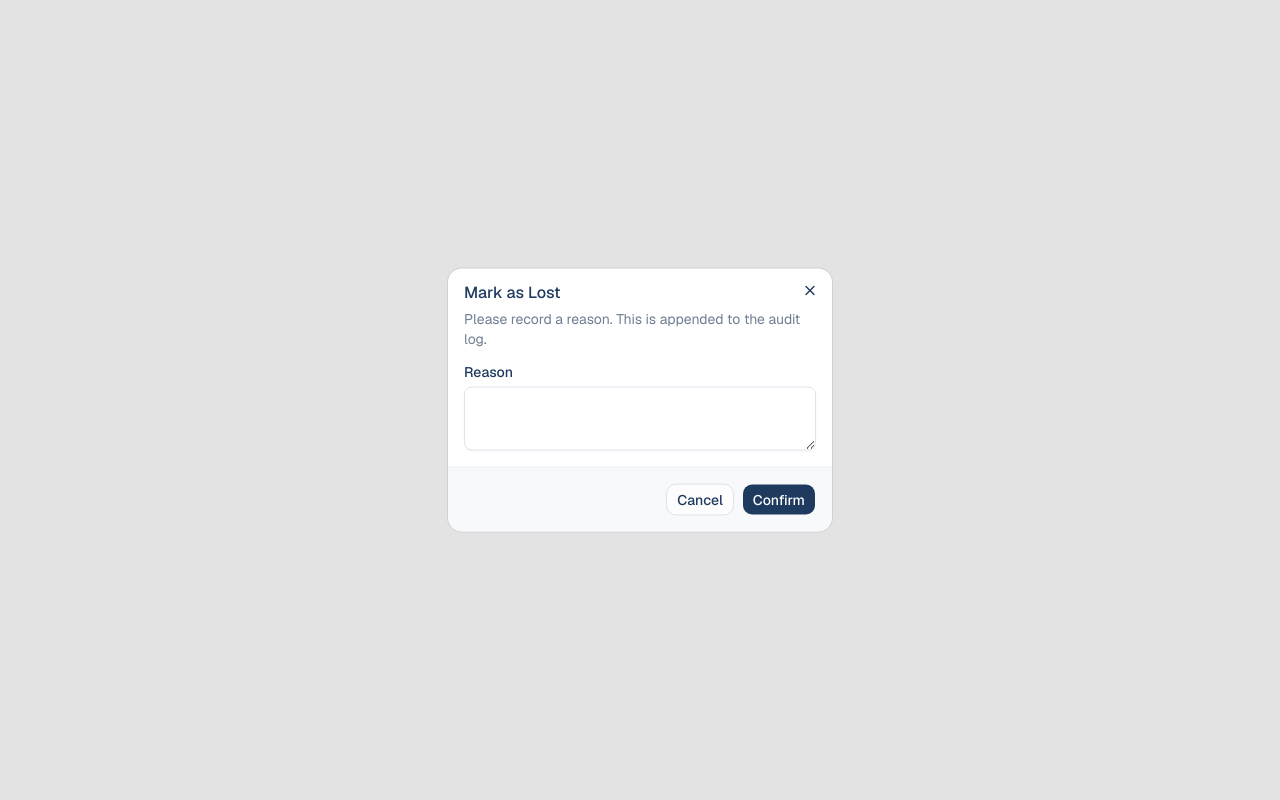
it: TransitionReasonDialog › renders the action error and keeps dialog open on failure
Type "bad data" into the text box with test id "reason-textarea" at (640, 418), box left=464, top=386, right=816, bottom=450
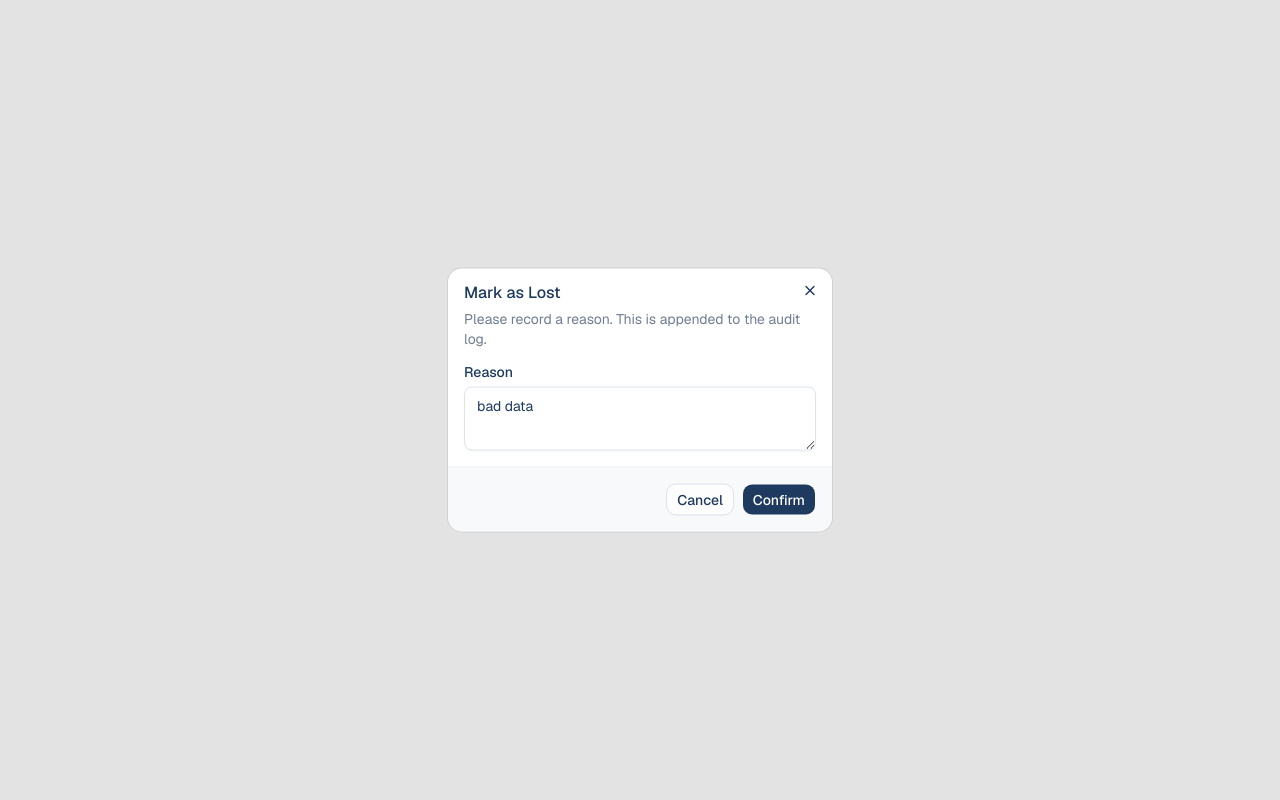
Click the button with test id "reason-submit" at (779, 500), box left=742, top=484, right=816, bottom=516
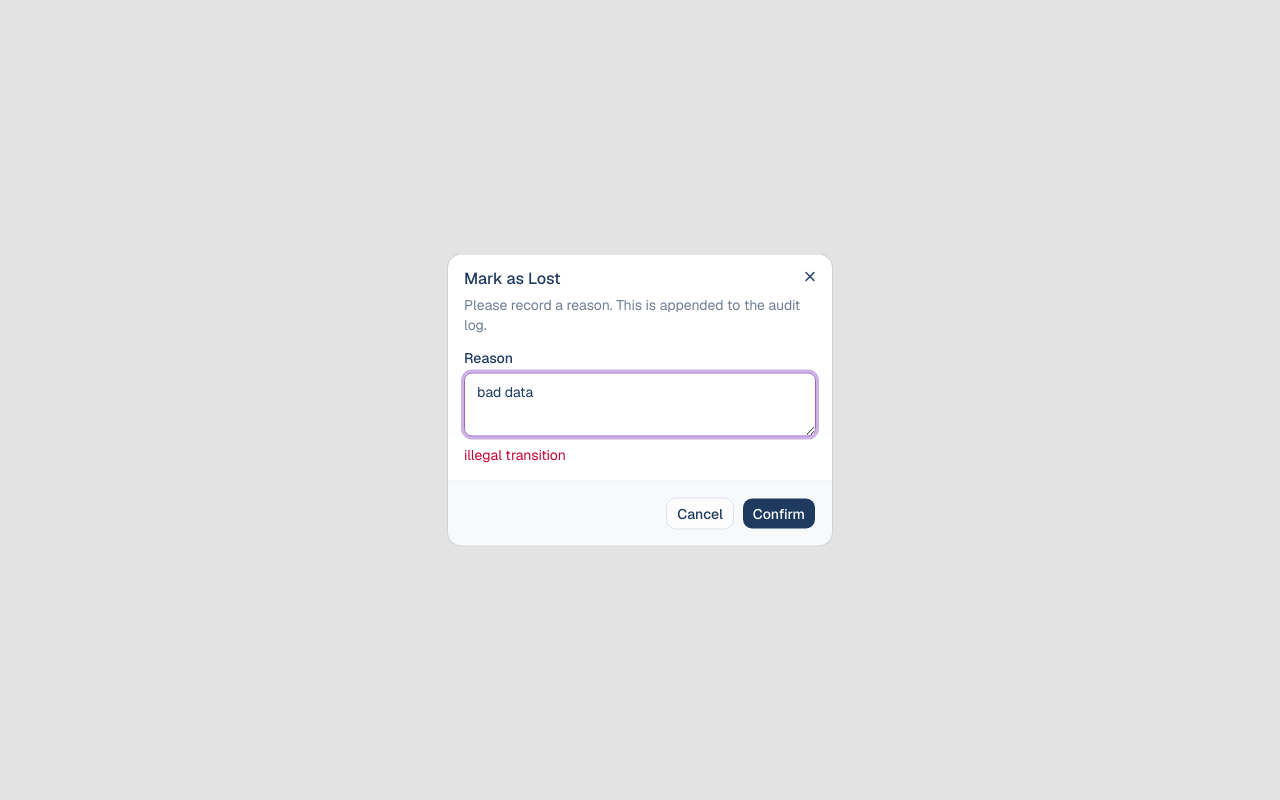
Check: the message with test id "reason-error" reads "illegal transition", box left=464, top=446, right=566, bottom=464
